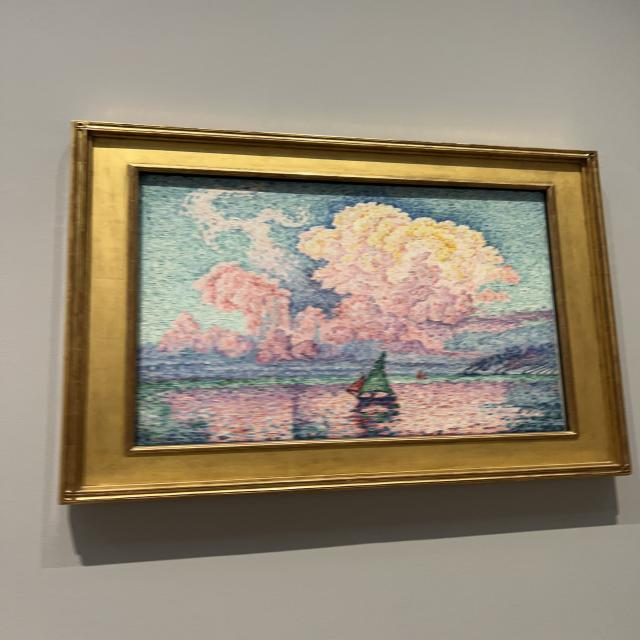sunrise: (140, 176, 565, 442)
